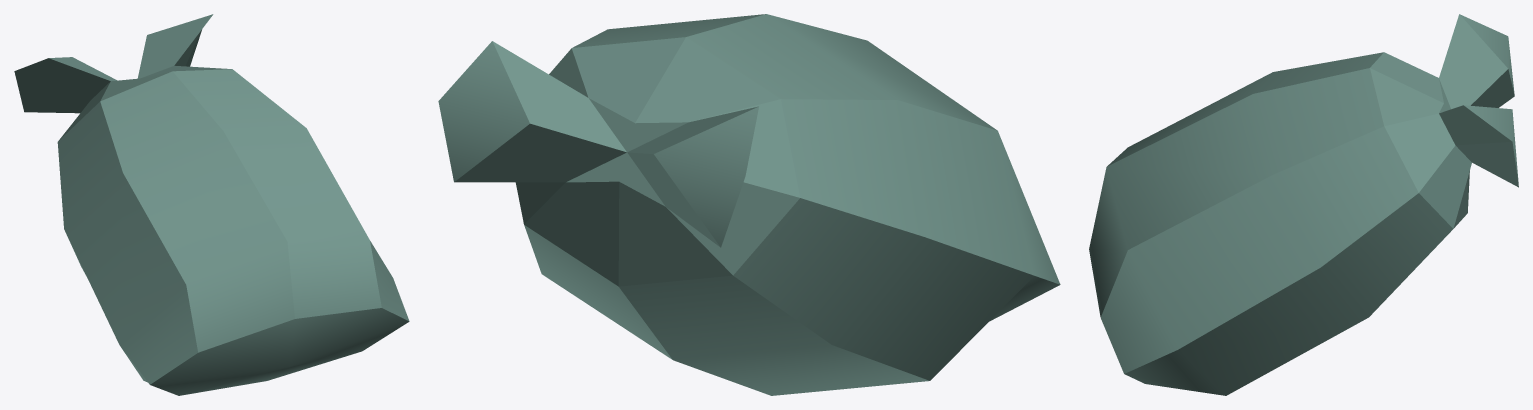
File: Trash.fbx
3 renders of one model, left to right at view 1: azimuth 30°, elevation 25°; view 2: azimuth 150°, elevation 25°; view 3: azimuth 270°, elevation 25°, orthographic. The views are drawn at different scales.
Visible parts, largest first — view 1: Trash; view 2: Trash; view 3: Trash.
Boxes of the visible parts, x1,y1,x2,y2 form: Trash: [14, 14, 409, 395]; Trash: [438, 14, 1060, 395]; Trash: [1089, 14, 1518, 395].
Bounding box in the file's own units: 68.62 × 65.64 × 81.34.
